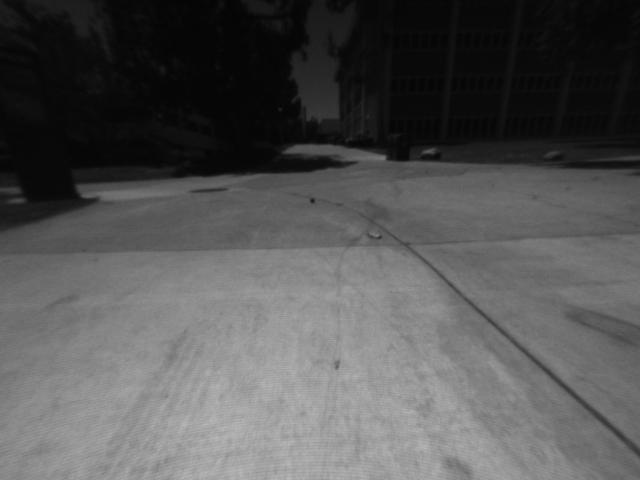dogtoy: (305, 192, 321, 206)
